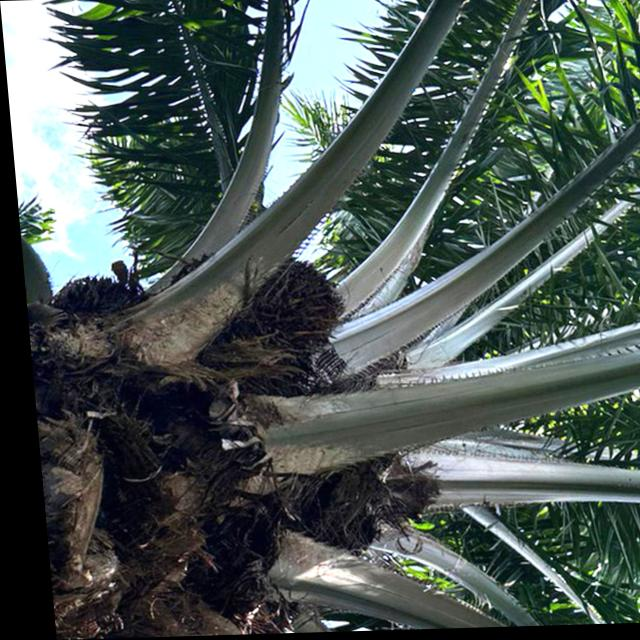ripe: (241, 257, 346, 354)
